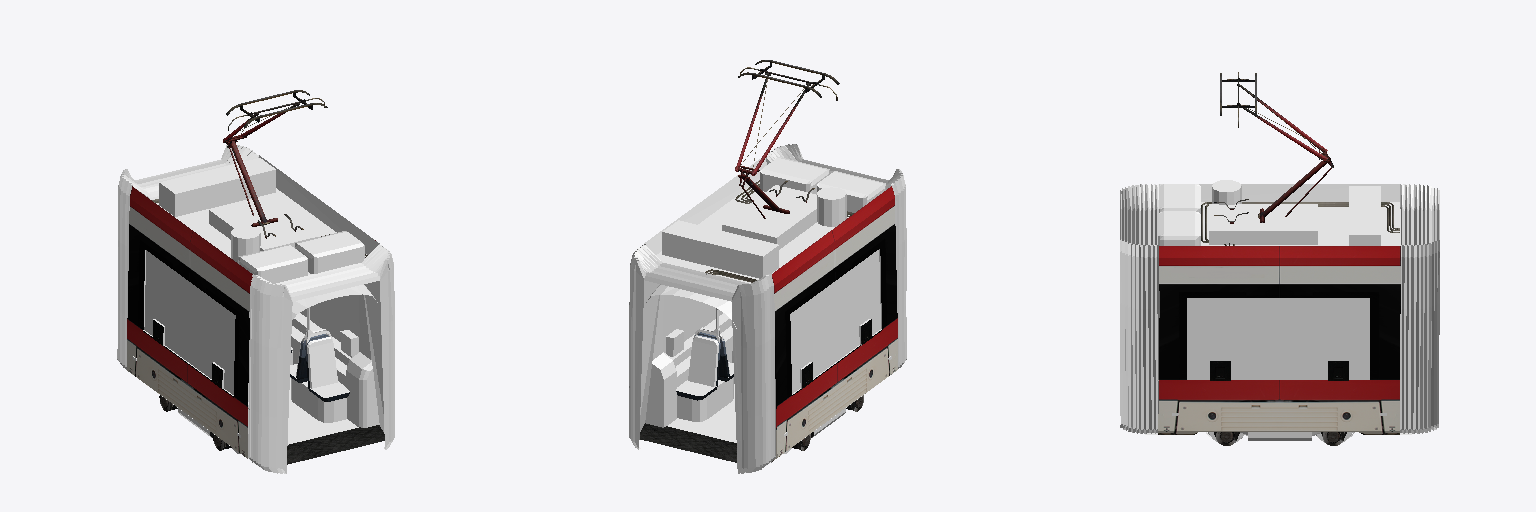
3 views of the same model, side by side, from view 1: azimuth 30°, elevation 25°; view 2: azimuth 150°, elevation 25°; view 3: azimuth 270°, elevation 25° (orthographic).
Visible parts, largest first — view 1: body, salon, okno_int; view 2: body, salon, okno_int; view 3: body, okno_int.
Part boxes in pixels (left/top/right/bottom): body: left=117, top=90, right=394, bottom=473; salon: left=143, top=250, right=379, bottom=456; okno_int: left=144, top=250, right=359, bottom=394; body: left=629, top=60, right=906, bottom=473; salon: left=645, top=249, right=881, bottom=455; okno_int: left=663, top=250, right=880, bottom=393; body: left=1120, top=72, right=1439, bottom=445; okno_int: left=1187, top=298, right=1369, bottom=379.
Size of the model in its own units: 2.54 by 5.83 by 5.06.
Materials: 38 (9 with a texture image).